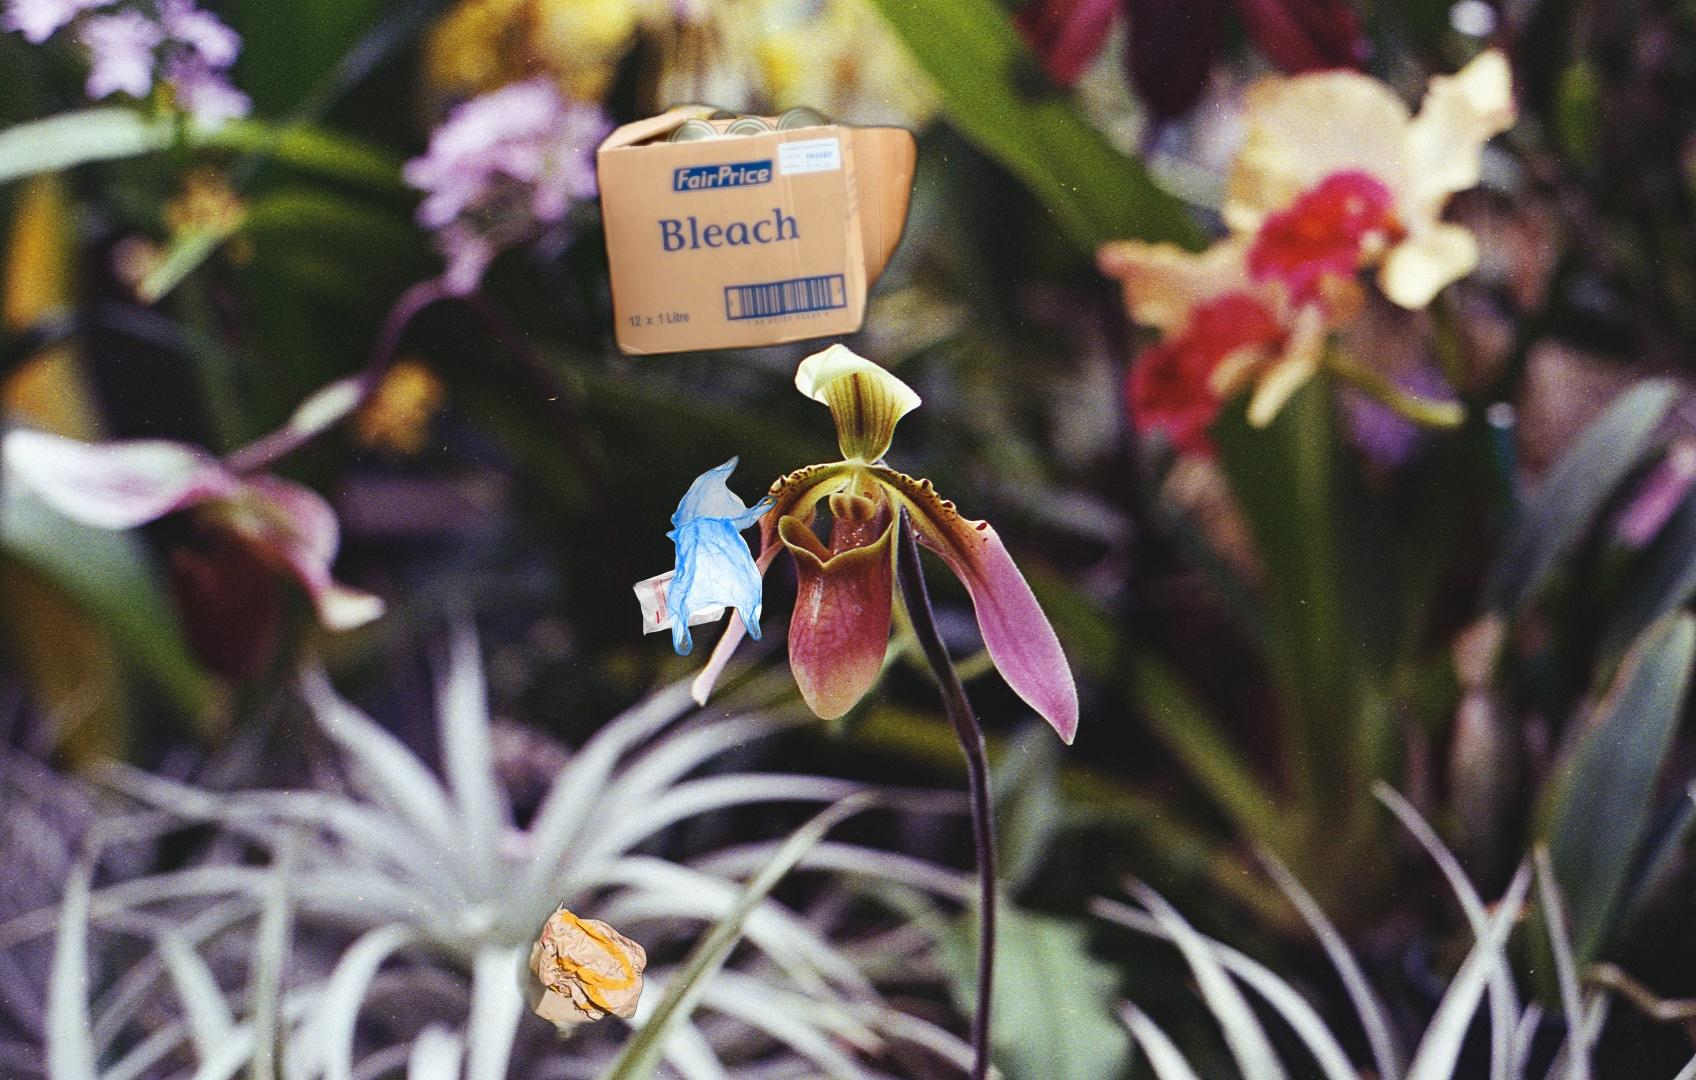paper-bag: (378, 881, 648, 1080)
plastic-bag: (625, 450, 883, 678)
trashbox-cardboard: (583, 93, 933, 365)
